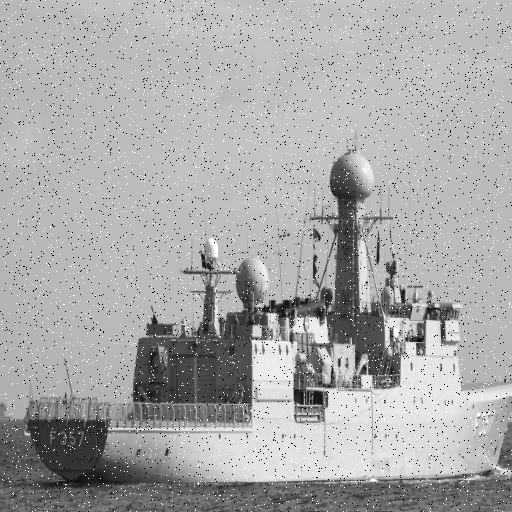Fragata: (29, 123, 512, 494)
